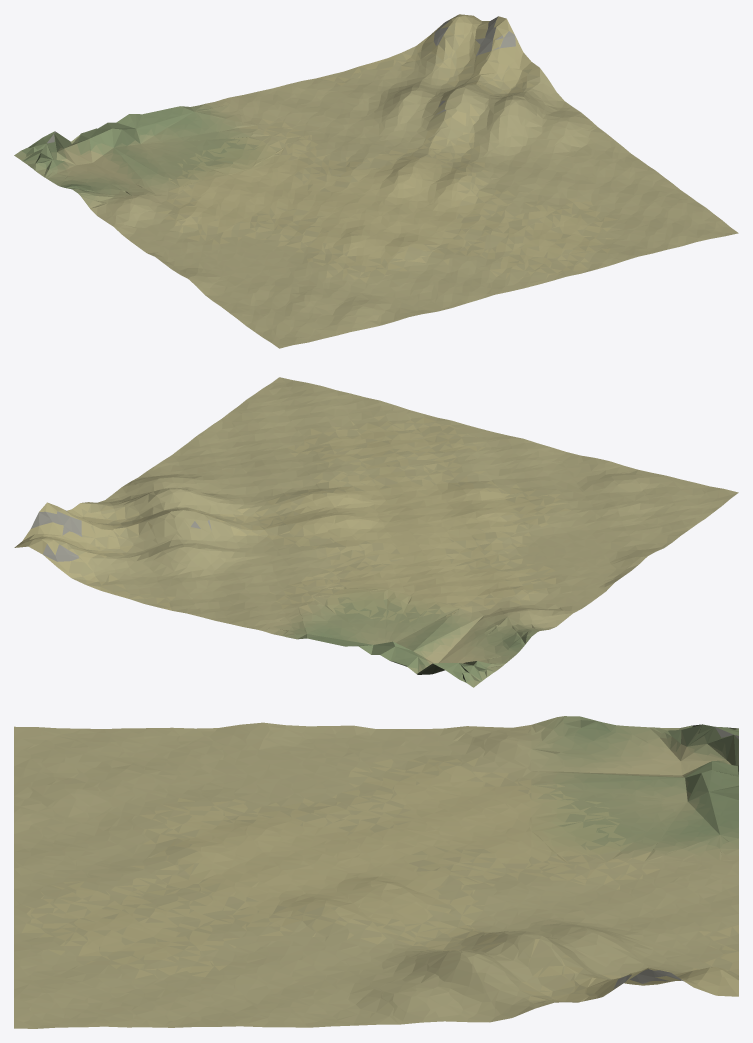
Rendered from round-10c-Ground_0_0.glb.
The picture shows the model from 3 angles, top to bottom: view 1: azimuth 30°, elevation 25°; view 2: azimuth 150°, elevation 25°; view 3: azimuth 270°, elevation 25°; orthographic projection. The views are drawn at different scales.
Parts seen in each view (by area): view 1: Ground_0_0; view 2: Ground_0_0; view 3: Ground_0_0.
Part boxes in pixels (<box>): Ground_0_0: <box>14,14,738,348</box>; Ground_0_0: <box>14,377,738,687</box>; Ground_0_0: <box>14,716,738,1028</box>.
Bounding box in the file's own units: 768 × 88.37 × 768.
